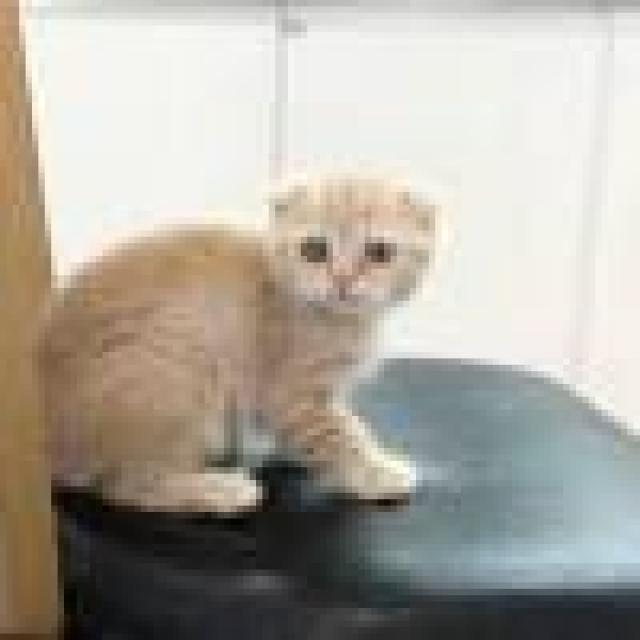cat-face: (221, 133, 491, 344)
